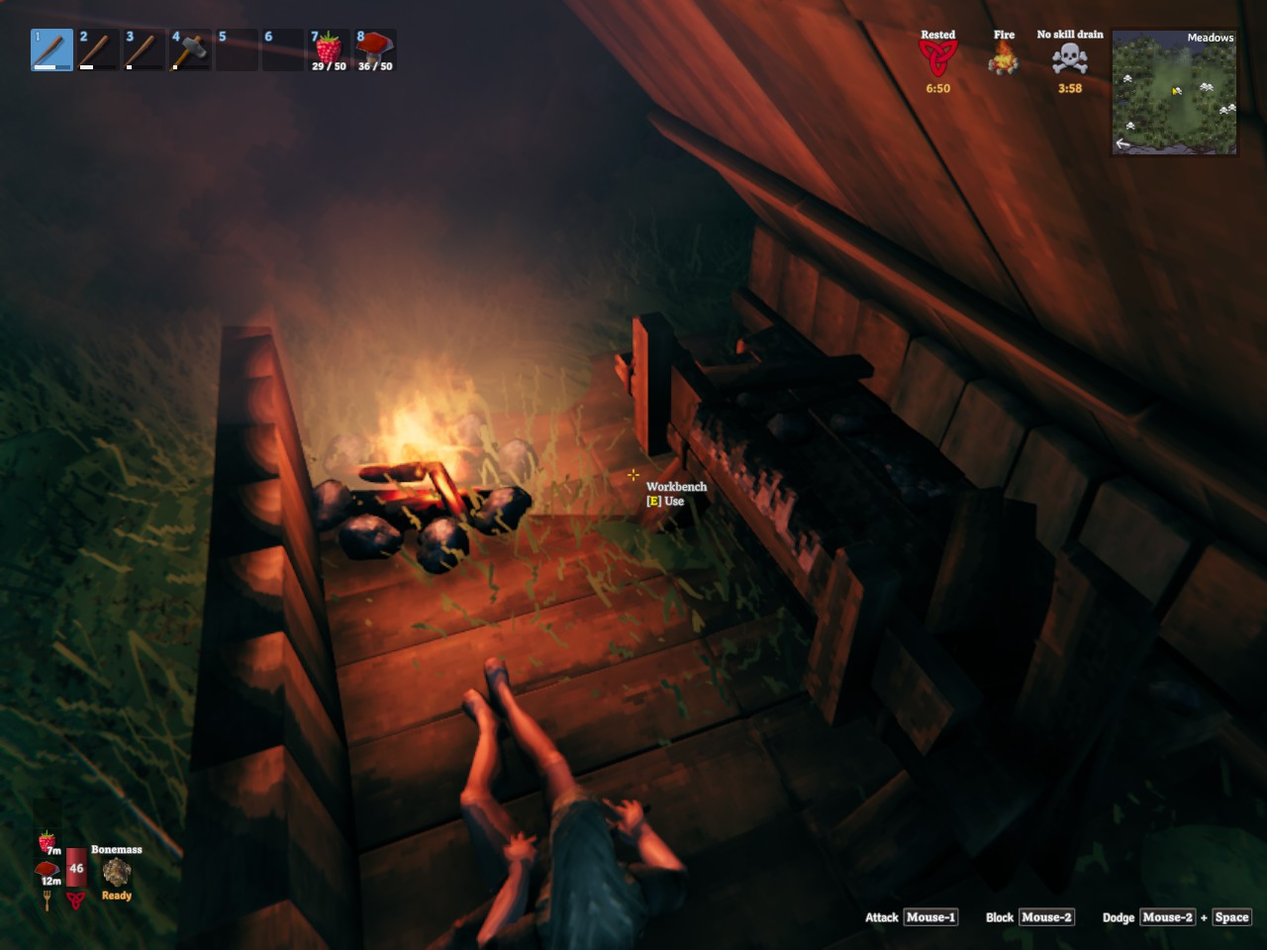Fire: (324, 387, 556, 583)
Status Indicator: (907, 16, 1111, 110)
